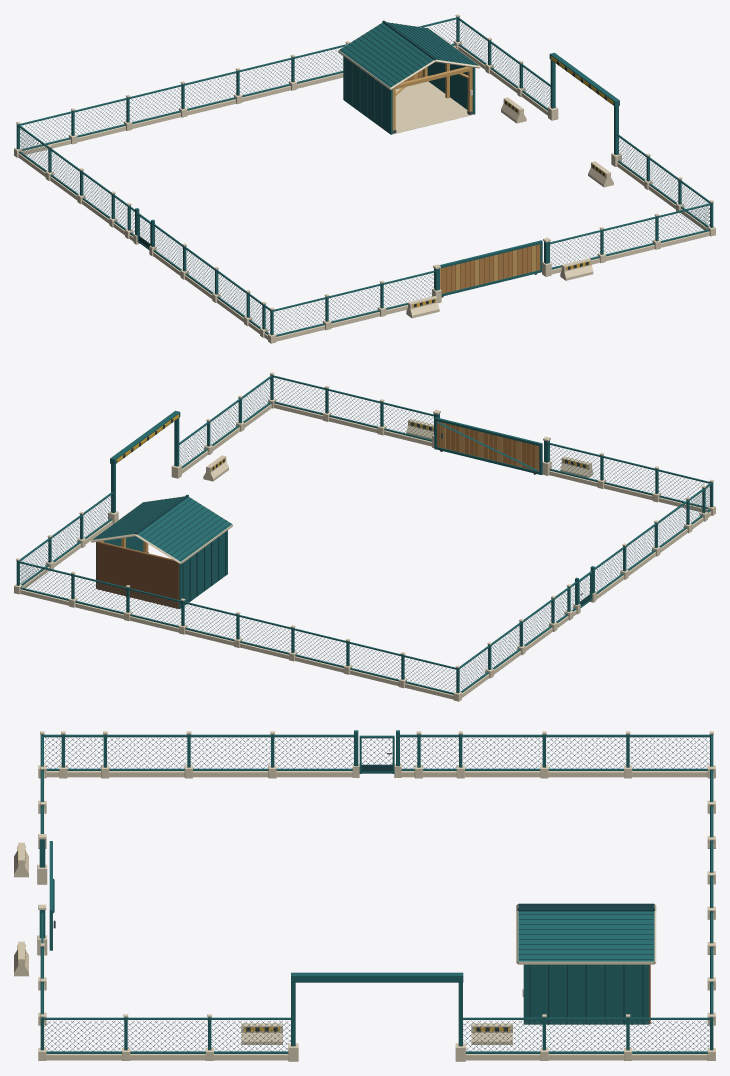
Rendered from timber-yard-architecture.glb.
The picture shows the model from 3 angles, top to bottom: view 1: azimuth 30°, elevation 25°; view 2: azimuth 150°, elevation 25°; view 3: azimuth 270°, elevation 25°; orthographic projection. The views are drawn at different scales.
Visible parts, largest first — view 1: saw-shed-roof-roof-timber-teal.002, saw-shed-shell-timber-teal.001, saw-shed-floor-timber-cream.001, sliding-gate-leaf-gate-leaf-timber-wood.001, saw-shed-roof-roof-timber-teal-dark.002, saw-shed-shell-timber-wood-light.001, truck-entrance-8m-frame-timber-teal.001, sliding-gate-leaf-gate-leaf-timber-teal.001, sliding-gate-leaf-gate-leaf-timber-wood-light.001, saw-shed-roof-roof-timber-cream.002, fence-panel-4m-fence-wire-timber-wire.003, fence-panel-4m-fence-wire-timber-wire.002 (+8 smaller); view 2: saw-shed-roof-roof-timber-teal.002, saw-shed-shell-timber-wood-dark.001, saw-shed-shell-timber-teal.001, sliding-gate-leaf-gate-leaf-timber-wood.001, saw-shed-roof-roof-timber-teal-dark.002, sliding-gate-leaf-gate-leaf-timber-teal.001, truck-entrance-8m-frame-timber-teal.001, sliding-gate-leaf-gate-leaf-timber-wood-light.001, saw-shed-roof-roof-timber-cream.002, fence-panel-4m-fence-wire-timber-wire.002, fence-panel-4m-fence-wire-timber-wire.001, fence-panel-4m-fence-wire-timber-wire.013 (+10 smaller); view 3: saw-shed-shell-timber-teal.001, saw-shed-roof-roof-timber-teal.002, saw-shed-roof-roof-timber-teal-dark.002, truck-entrance-8m-frame-timber-teal.001, fence-panel-4m-fence-wire-timber-wire.021, fence-panel-4m-fence-wire-timber-wire.025, fence-panel-4m-fence-wire-timber-wire.024, fence-panel-4m-fence-wire-timber-wire.026, fence-panel-4m-fence-wire-timber-wire.023, fence-panel-4m-fence-wire-timber-wire.022, fence-panel-4m-fence-wire-timber-wire.020, fence-panel-4m-fence-wire-timber-wire.016 (+24 smaller).
Boxes of the visible parts, bbox=[...] form: saw-shed-roof-roof-timber-teal.002: bbox=[339, 22, 478, 87]; saw-shed-shell-timber-teal.001: bbox=[343, 56, 475, 134]; saw-shed-floor-timber-cream.001: bbox=[392, 81, 473, 134]; sliding-gate-leaf-gate-leaf-timber-wood.001: bbox=[441, 244, 540, 293]; saw-shed-roof-roof-timber-teal-dark.002: bbox=[340, 20, 478, 86]; saw-shed-shell-timber-wood-light.001: bbox=[392, 63, 472, 130]; truck-entrance-8m-frame-timber-teal.001: bbox=[549, 52, 619, 154]; sliding-gate-leaf-gate-leaf-timber-teal.001: bbox=[439, 240, 542, 296]; sliding-gate-leaf-gate-leaf-timber-wood-light.001: bbox=[440, 245, 536, 290]; saw-shed-roof-roof-timber-cream.002: bbox=[338, 22, 480, 89]; fence-panel-4m-fence-wire-timber-wire.003: bbox=[130, 87, 181, 121]; fence-panel-4m-fence-wire-timber-wire.002: bbox=[75, 100, 126, 134]; saw-shed-roof-roof-timber-teal.002: bbox=[92, 496, 231, 561]; saw-shed-shell-timber-wood-dark.001: bbox=[96, 541, 179, 608]; saw-shed-shell-timber-teal.001: bbox=[96, 530, 227, 608]; sliding-gate-leaf-gate-leaf-timber-wood.001: bbox=[437, 421, 535, 470]; saw-shed-roof-roof-timber-teal-dark.002: bbox=[93, 494, 230, 560]; sliding-gate-leaf-gate-leaf-timber-teal.001: bbox=[434, 417, 542, 474]; truck-entrance-8m-frame-timber-teal.001: bbox=[110, 410, 180, 512]; sliding-gate-leaf-gate-leaf-timber-wood-light.001: bbox=[441, 422, 539, 471]; saw-shed-roof-roof-timber-cream.002: bbox=[90, 496, 232, 563]; fence-panel-4m-fence-wire-timber-wire.002: bbox=[349, 644, 400, 678]; fence-panel-4m-fence-wire-timber-wire.001: bbox=[404, 658, 455, 692]; fence-panel-4m-fence-wire-timber-wire.013: bbox=[328, 391, 379, 425]; saw-shed-shell-timber-teal.001: bbox=[523, 964, 648, 1024]; saw-shed-roof-roof-timber-teal.002: bbox=[518, 904, 654, 961]; saw-shed-roof-roof-timber-teal-dark.002: bbox=[517, 903, 654, 959]; truck-entrance-8m-frame-timber-teal.001: bbox=[291, 972, 463, 1046]; fence-panel-4m-fence-wire-timber-wire.021: bbox=[630, 737, 709, 768]; fence-panel-4m-fence-wire-timber-wire.025: bbox=[190, 737, 270, 768]; fence-panel-4m-fence-wire-timber-wire.024: bbox=[274, 737, 353, 768]; fence-panel-4m-fence-wire-timber-wire.026: bbox=[107, 737, 186, 768]; fence-panel-4m-fence-wire-timber-wire.023: bbox=[462, 737, 542, 768]; fence-panel-4m-fence-wire-timber-wire.022: bbox=[546, 737, 626, 768]; fence-panel-4m-fence-wire-timber-wire.020: bbox=[44, 1020, 124, 1051]; fence-panel-4m-fence-wire-timber-wire.016: bbox=[546, 1020, 626, 1051].
Size of the model in its own units: 32.45 by 4.69 by 33.56.
